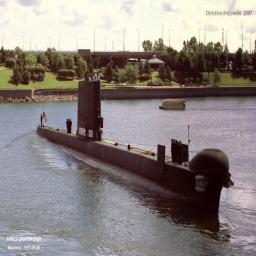submarine: (33, 80, 235, 227)
